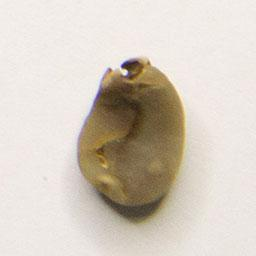defect: (72, 53, 192, 214)
